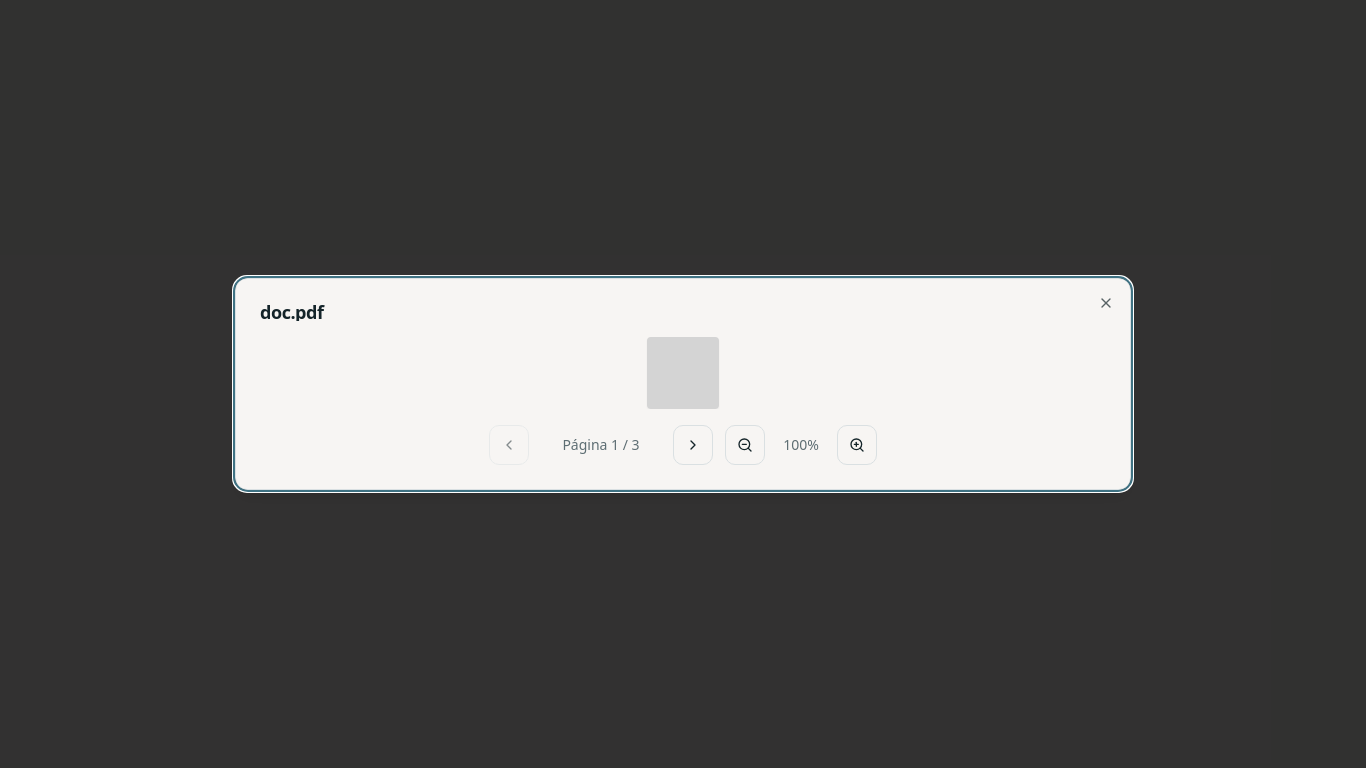
Test: PdfPreviewModal (forms) › zoom controls › reduzir zoom decreases to 75%
Expected: the text "Página 1 / 3" is shown, [562,435,640,454]
Click the button named "reduzir zoom".
click(745, 445)  # box [725,425,765,465]
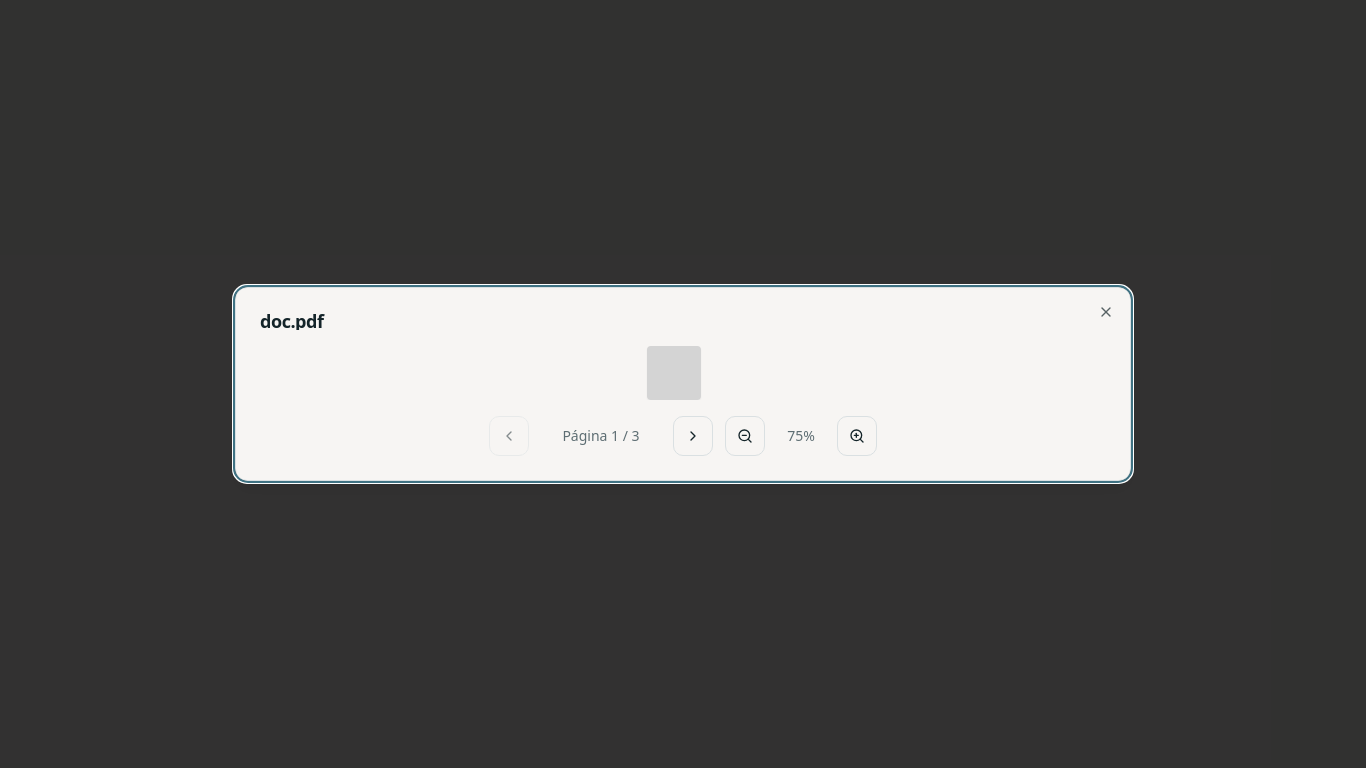
Now the text "75%" is shown, box [787,426,815,445]
